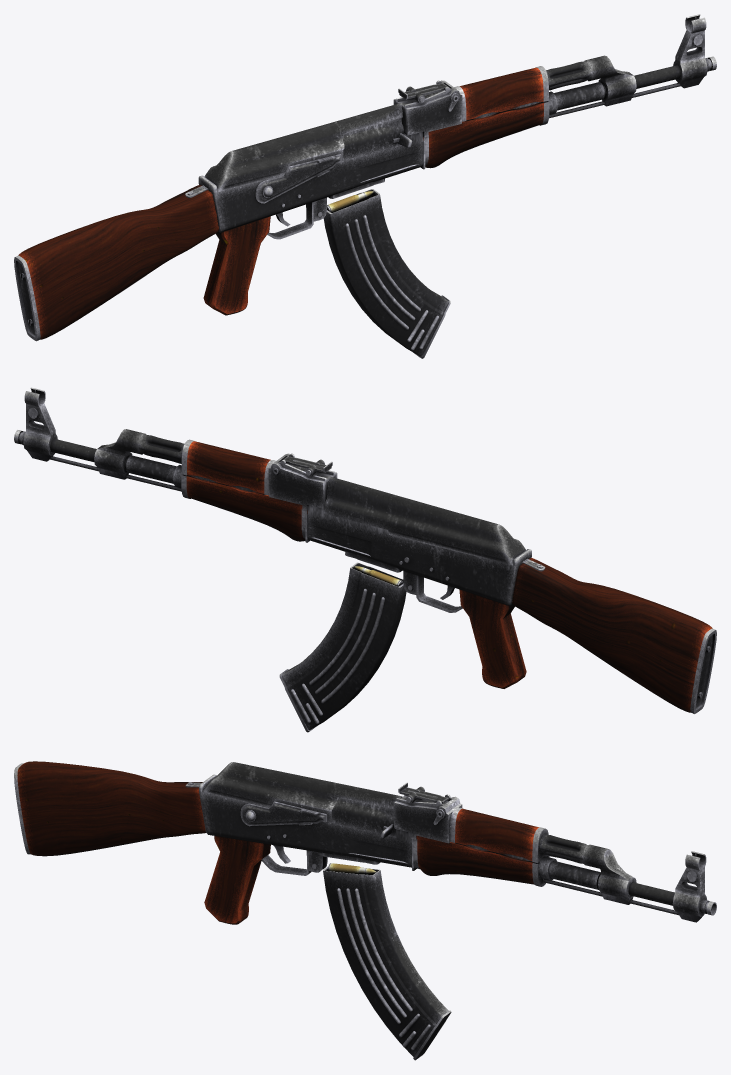
File: gun.gltf
The picture shows the model from 3 angles, top to bottom: view 1: azimuth 30°, elevation 25°; view 2: azimuth 150°, elevation 25°; view 3: azimuth 330°, elevation 25°; orthographic projection.
Visible parts, largest first — view 1: AK_47; view 2: AK_47; view 3: AK_47.
Part boxes in pixels (x1,y1,x2,y2): AK_47: (14, 14, 716, 358); AK_47: (14, 387, 716, 732); AK_47: (14, 761, 716, 1060).
Bounding box in the file's own units: 47.74 × 17.81 × 2.62.
1 material, 1 textured.
